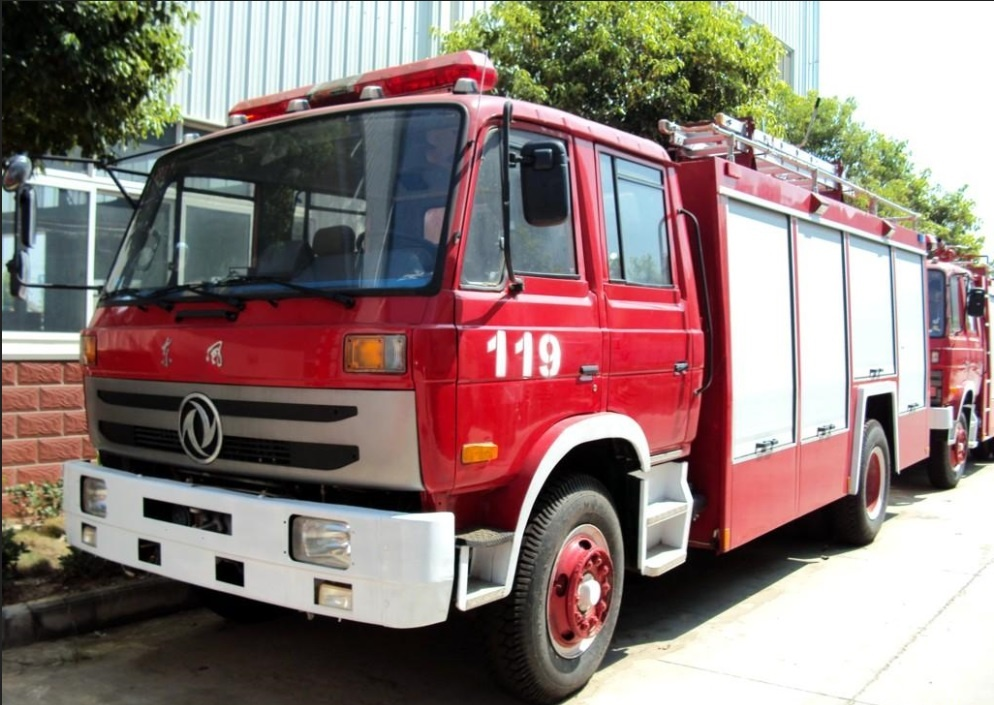fire engine: (69, 71, 936, 682)
